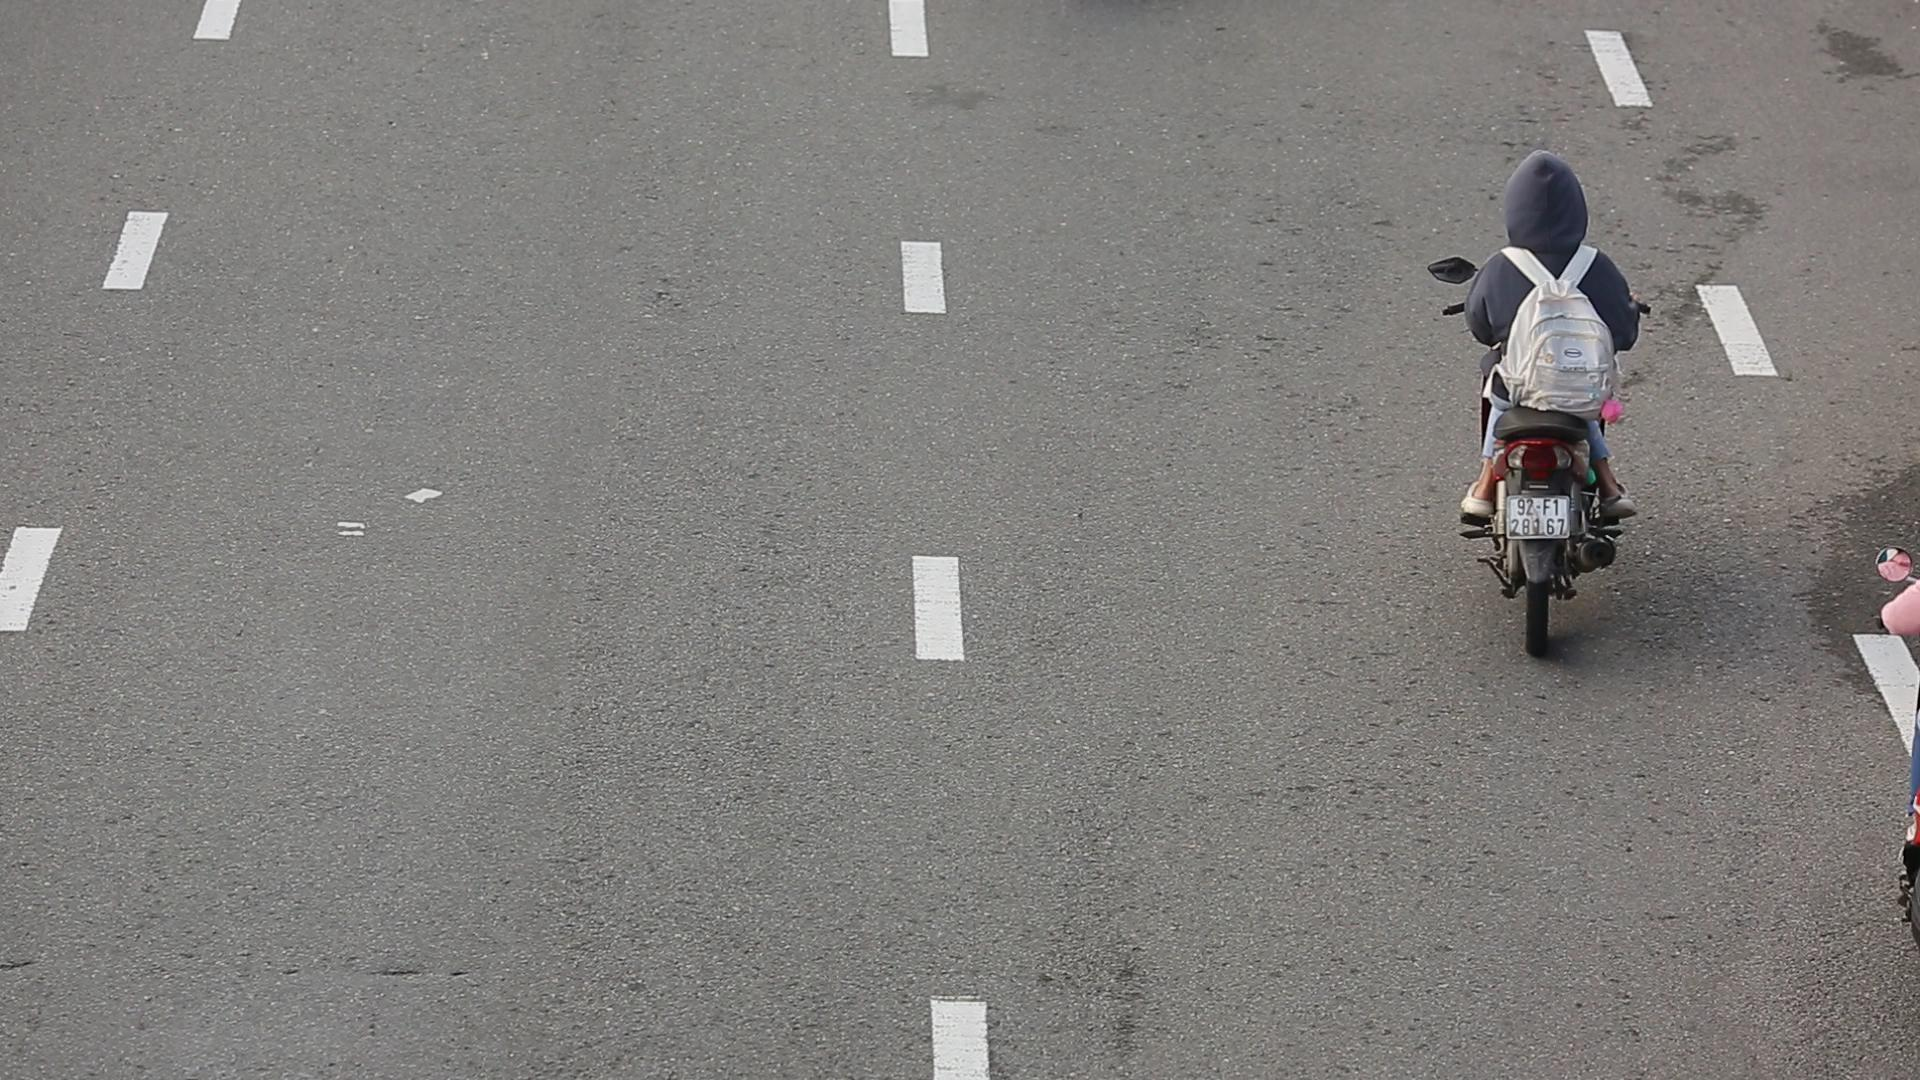motobike: (1432, 144, 1647, 659)
